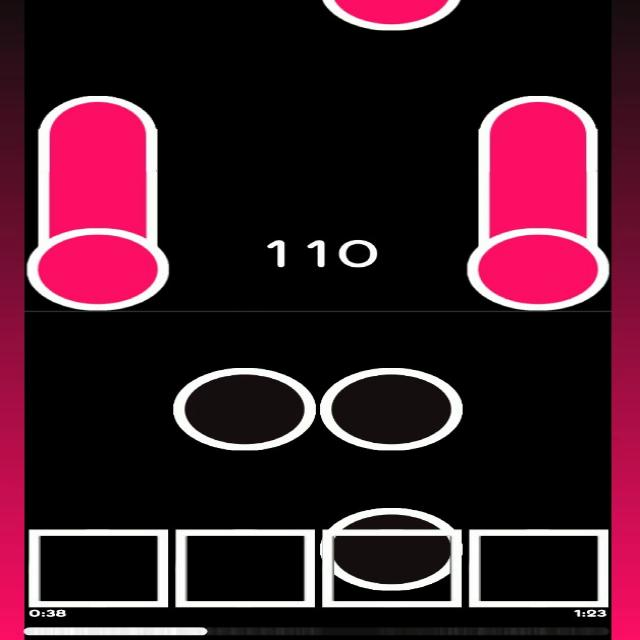end_hold: (478, 82, 601, 136), (38, 82, 157, 136)
note: (319, 362, 467, 452), (322, 503, 462, 591), (176, 363, 314, 451)
start_hold: (465, 208, 609, 310), (30, 207, 170, 311), (323, 0, 460, 30)
